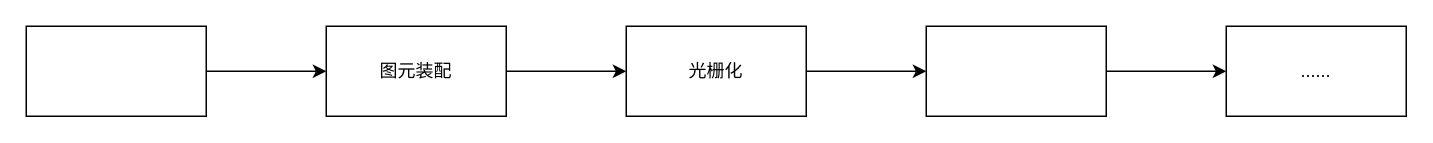
Image size: 1433x143. Some labels were removed from this diagram. Here are the shapes that lost their labels. From the top down, the box of each, then its label:
(25, 25, 206, 116): 顶点着色器
(925, 25, 1106, 116): 片元着色器
